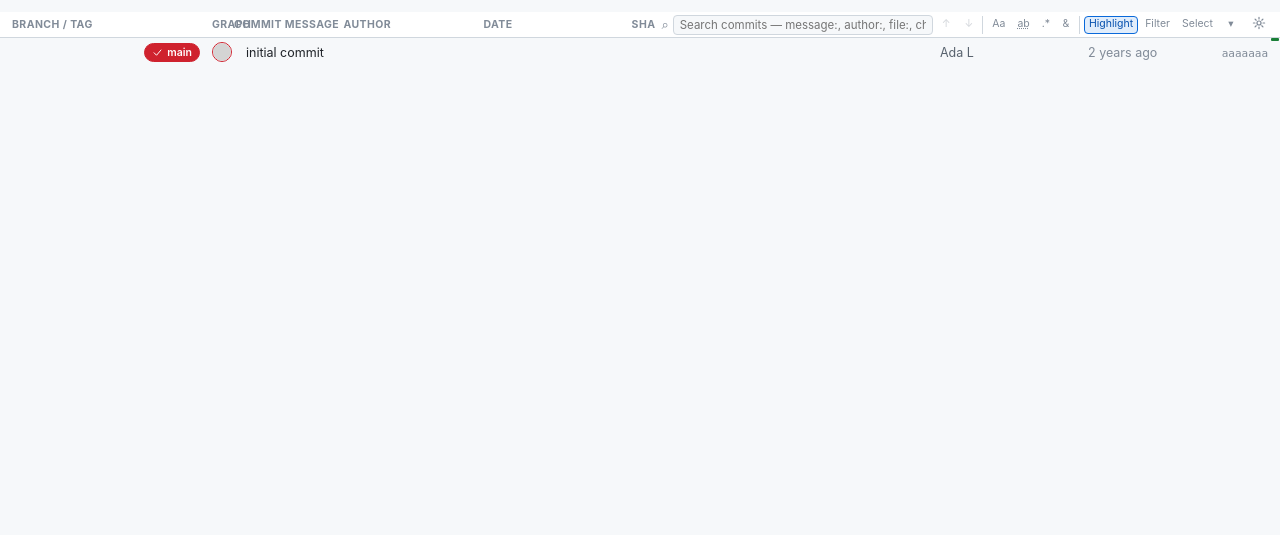
the row context menu › opens on the author column, which used to swallow the gesture
Right-click the text "Ada L" at point(957, 52), box [940,44,974,60]
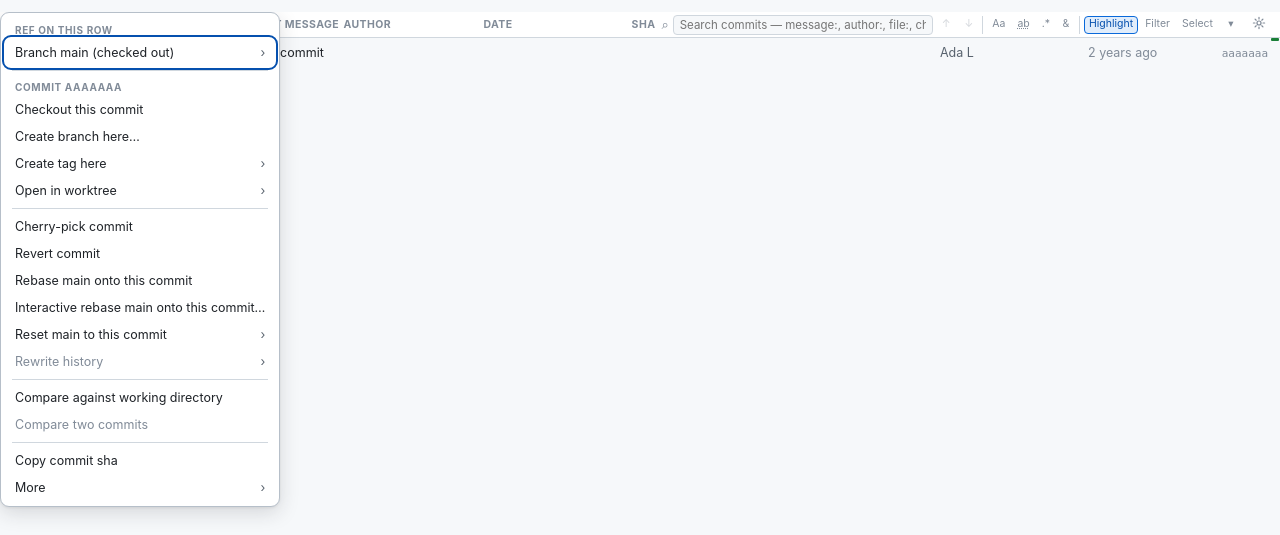
Expected: the text "Checkout this commit" is shown, [15,102,143,117]
